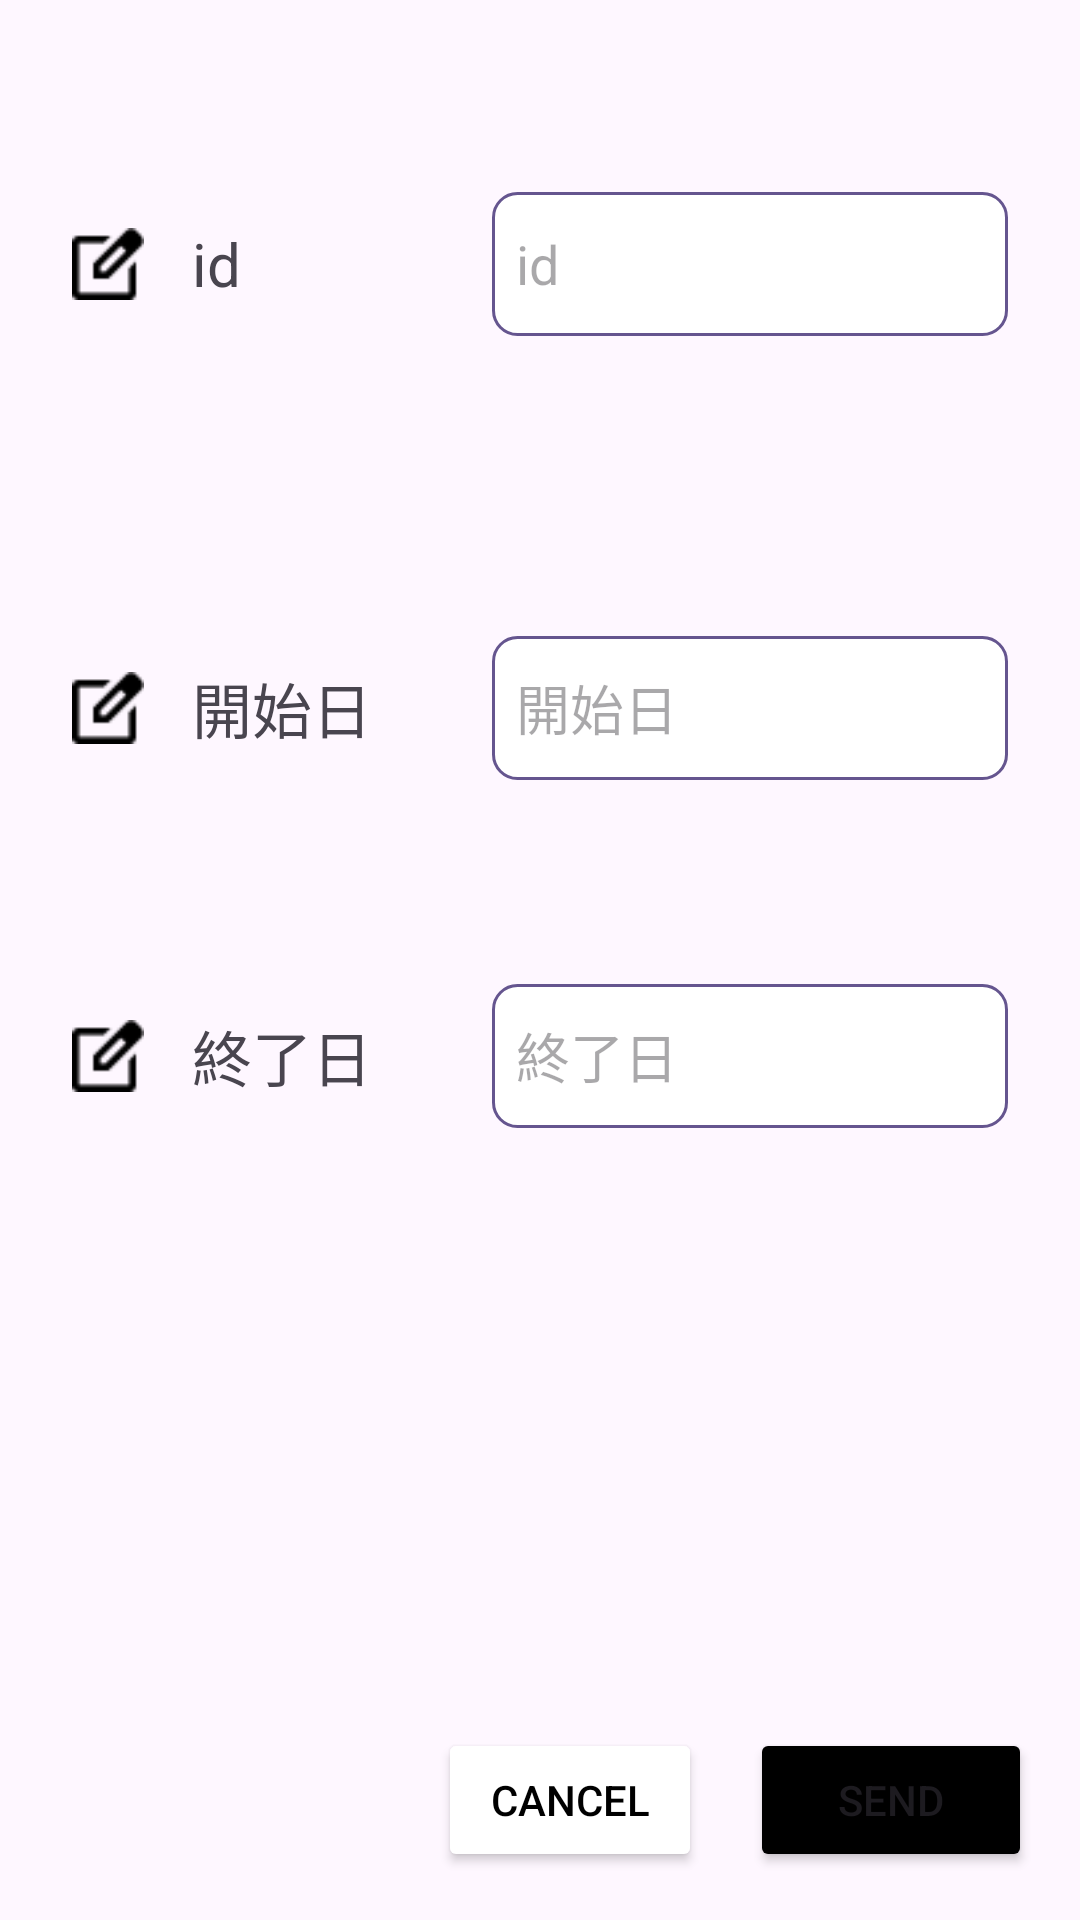

Icons on this 1080w x 1920h Android screen, each with its box as (x1, y1, x2, y2):
edit square: (72, 228, 144, 300), (72, 672, 144, 744), (72, 1020, 144, 1092)
